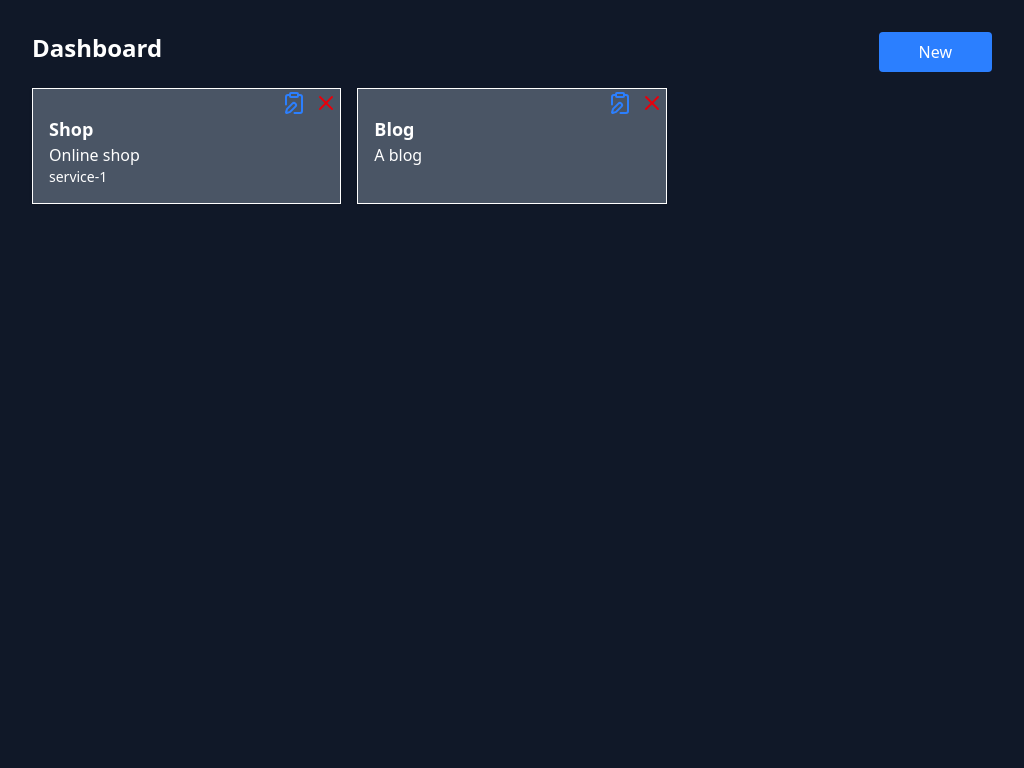
Test: Projects › creates a project from the New dialog and closes it on success
The width and height of the screenshot is (1024, 768).
Step 1. Click the button "New" → (935, 52), box [878, 32, 992, 72]
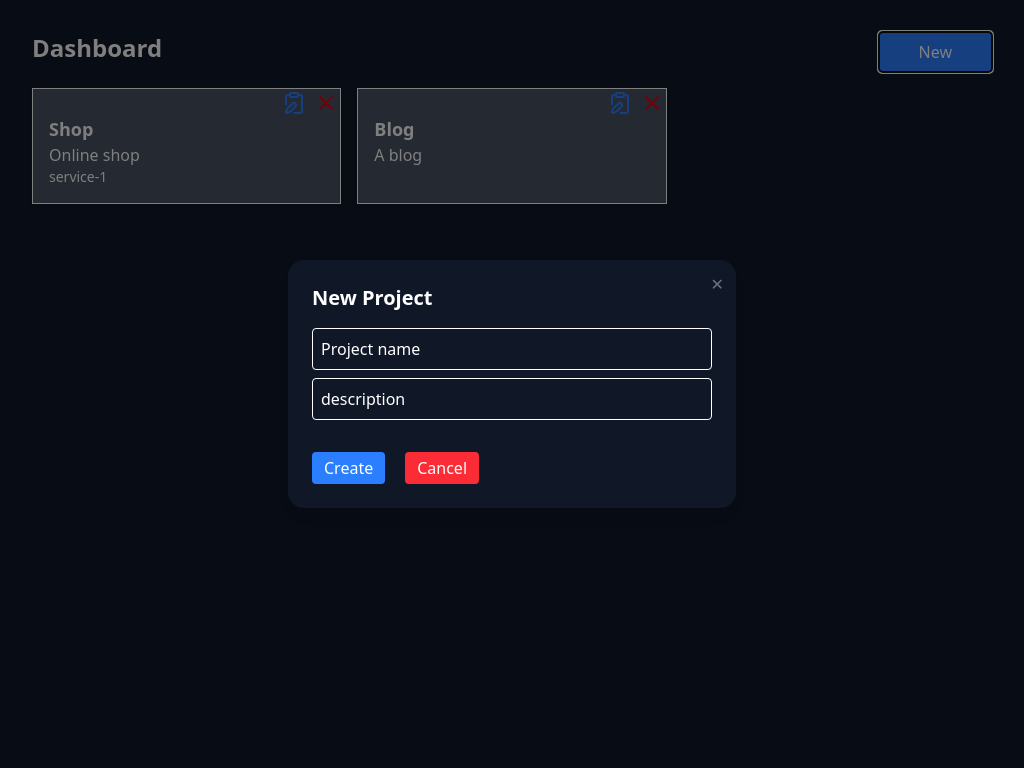
expect the heading "New Project" is shown: met, box [312, 284, 432, 311]
Step 2. Type "Store" into the field with placeholder "Project name" → (512, 349), box [312, 328, 712, 370]
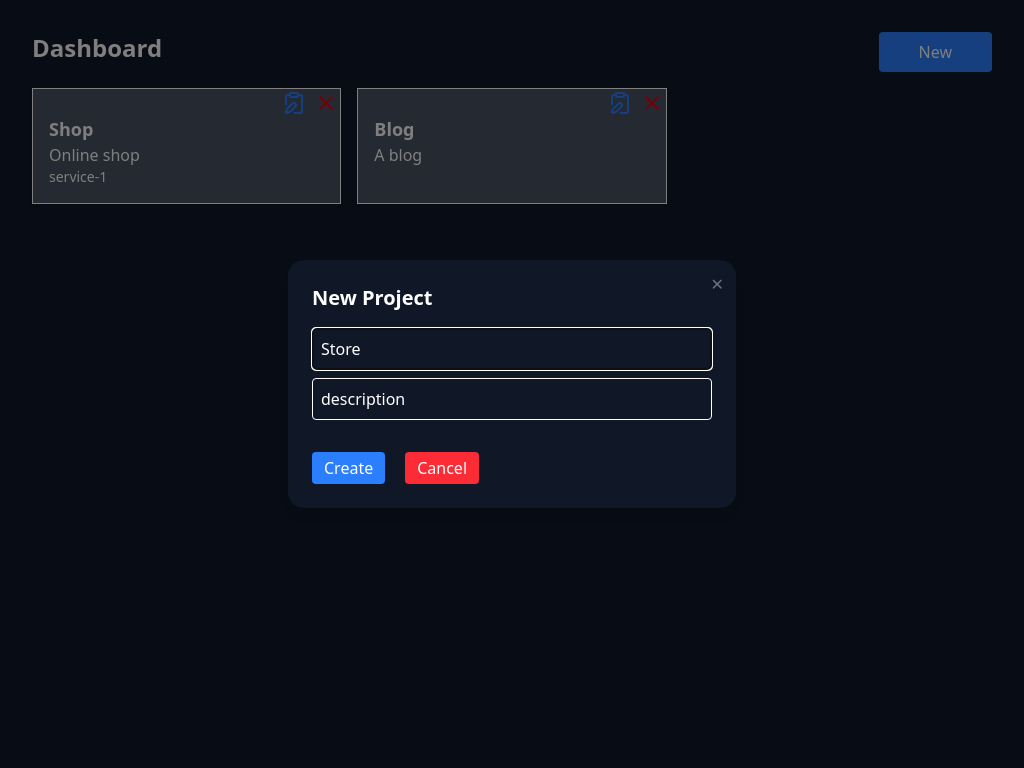
Step 3. Type "desc" into the field with placeholder "description" → (512, 399), box [312, 378, 712, 420]
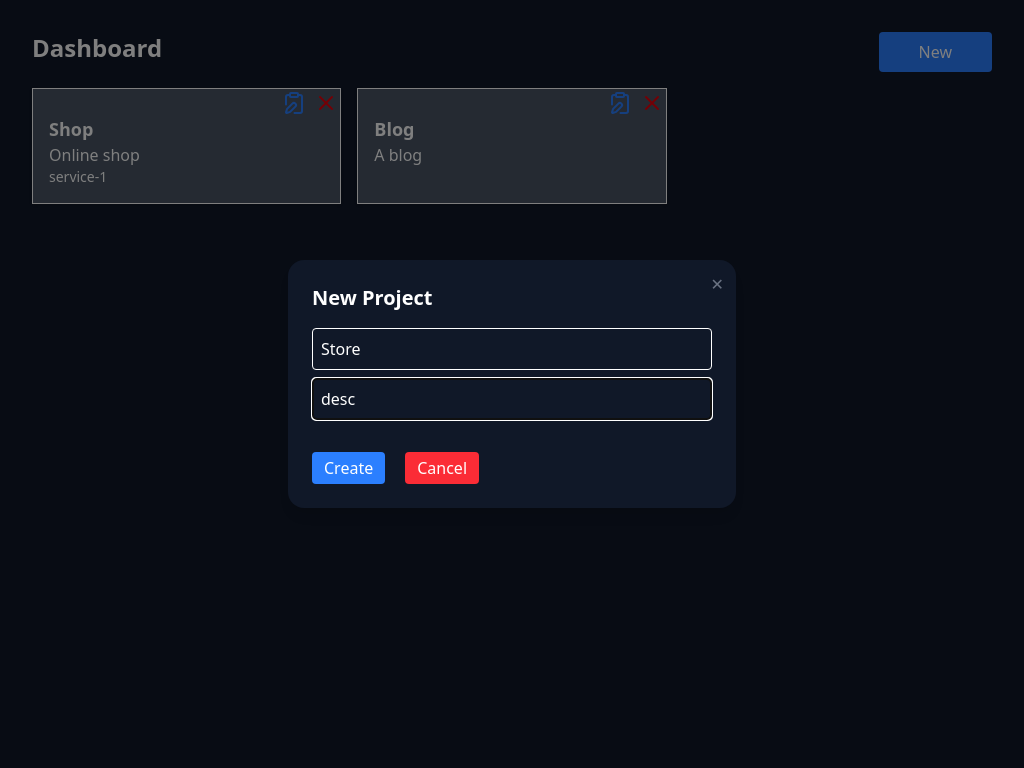
Step 4. Click the button "Create" → (349, 468), box [312, 452, 385, 484]
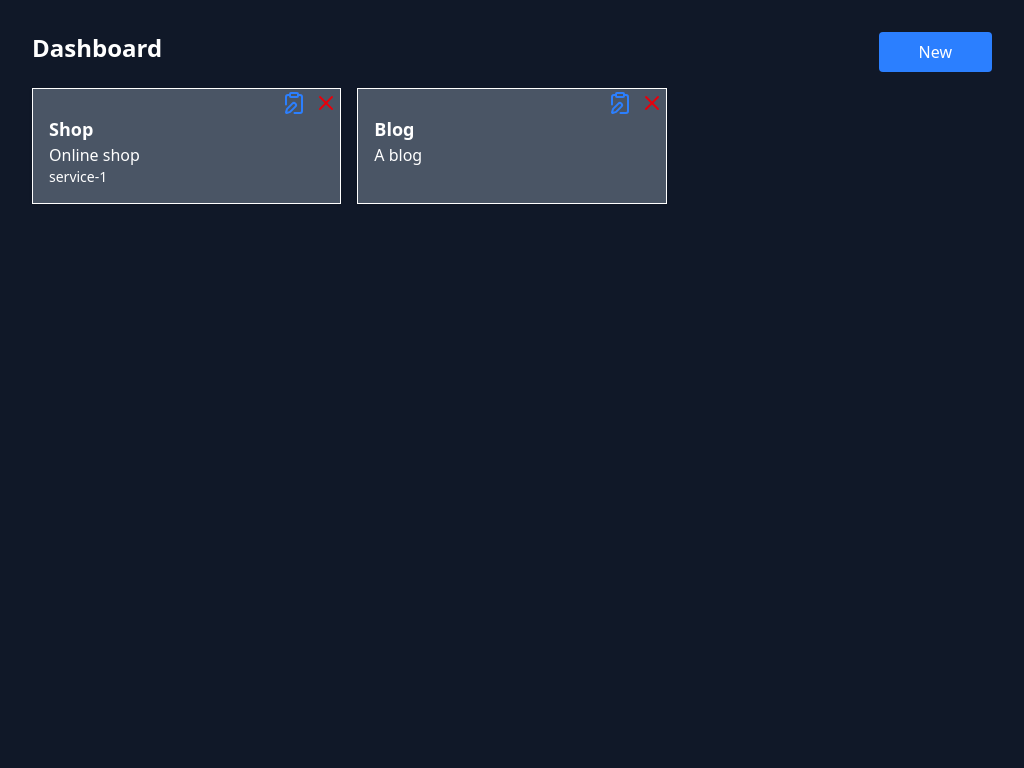
expect the heading "Dashboard" is shown: met, box [32, 32, 162, 64]
expect the heading "New Project" is gone: met
